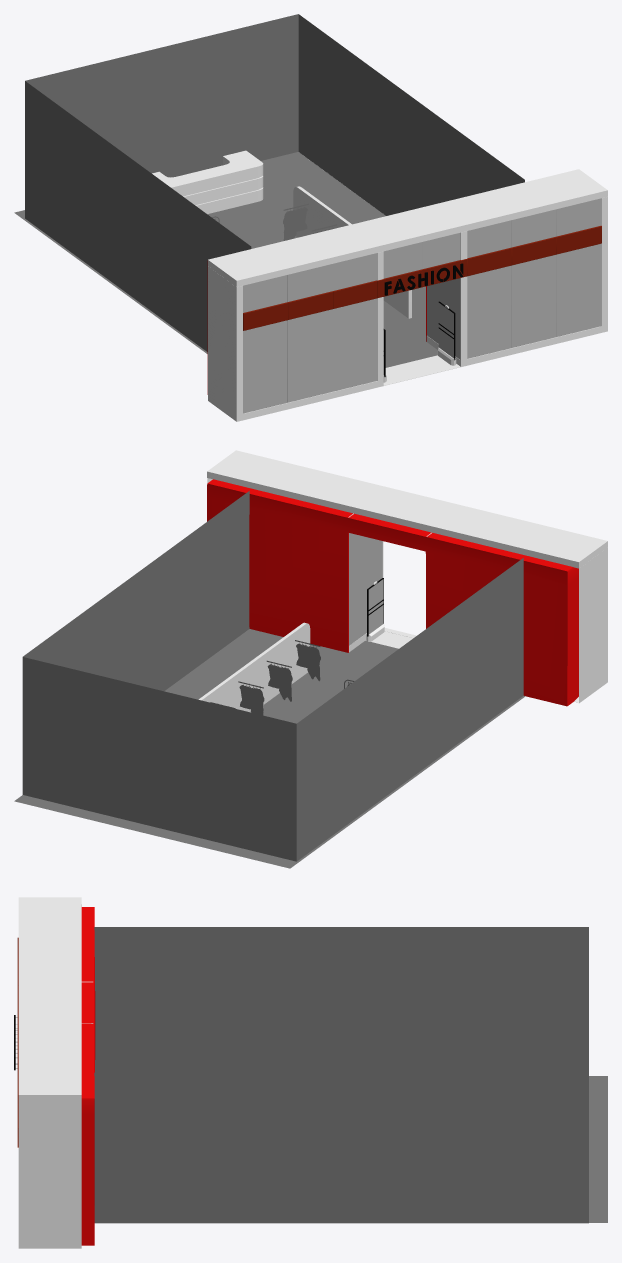
File: Shop_Fashion.FBX
3 views of the same model, one above another, from view 1: azimuth 30°, elevation 25°; view 2: azimuth 150°, elevation 25°; view 3: azimuth 270°, elevation 25° (orthographic). The views are drawn at different scales.
Visible parts, largest first — view 1: vm_v3_067_mall_shop, vm_v3_067_Glass; view 2: vm_v3_067_mall_shop, vm_v3_067_Glass; view 3: vm_v3_067_mall_shop.
Part boxes in pixels (<box>): vm_v3_067_mall_shop: <box>14,14,607,421</box>; vm_v3_067_Glass: <box>243,198,601,413</box>; vm_v3_067_mall_shop: <box>14,450,607,868</box>; vm_v3_067_Glass: <box>349,533,383,645</box>; vm_v3_067_mall_shop: <box>14,897,607,1248</box>.
Bounding box in the file's own units: 1154 × 420 × 1466.
